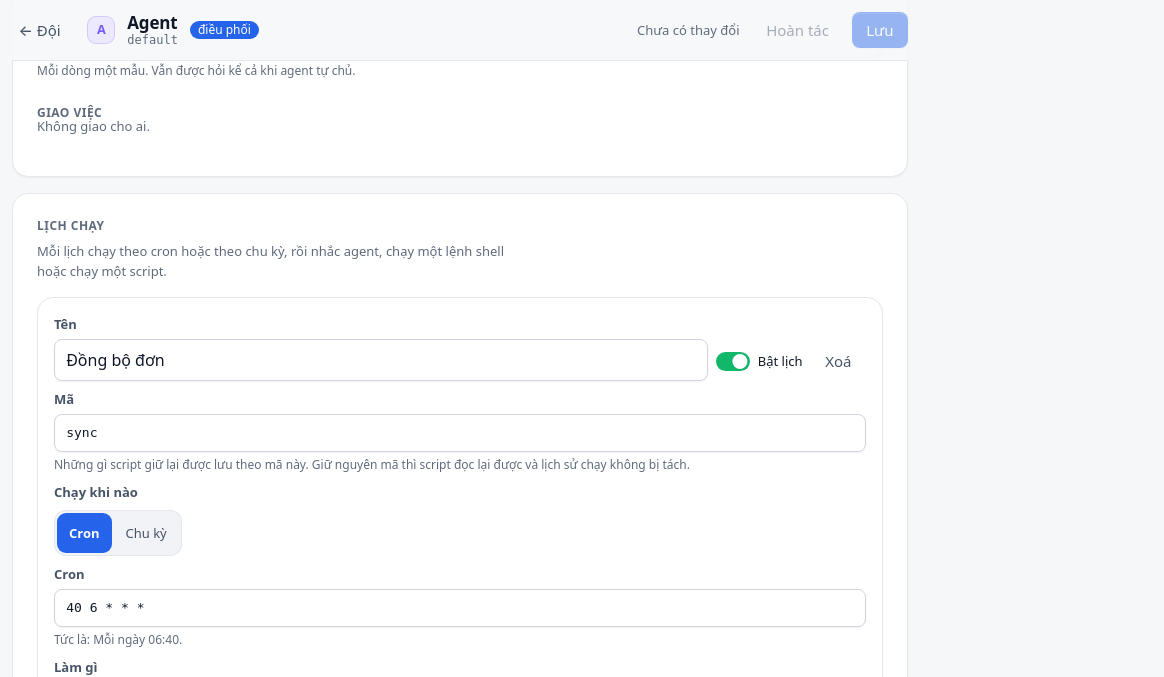
Test: a schedule that runs a script, in the agent editor › keeps its script when its own name, timing and switch are changed
(page scrolled)
Step 1. Type " sáng" into the field labelled "Tên" → (381, 360), box [54,339,708,381]
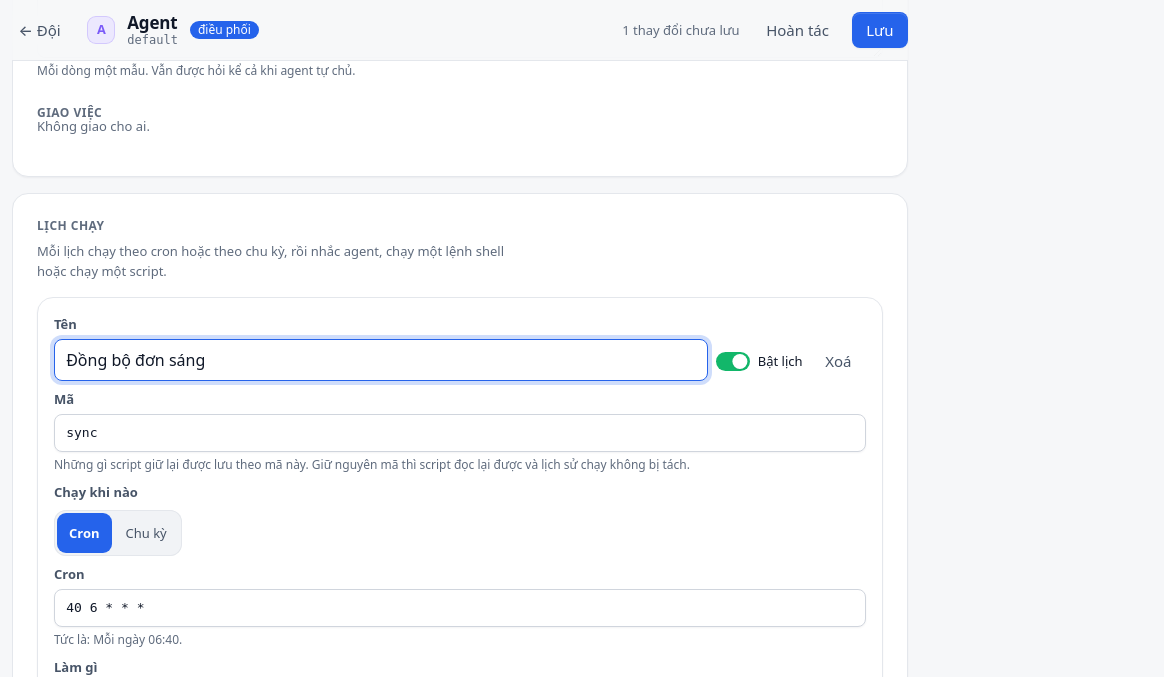
Step 2. Click the button "Chu kỳ" → (146, 533), box [114,513,179,553]
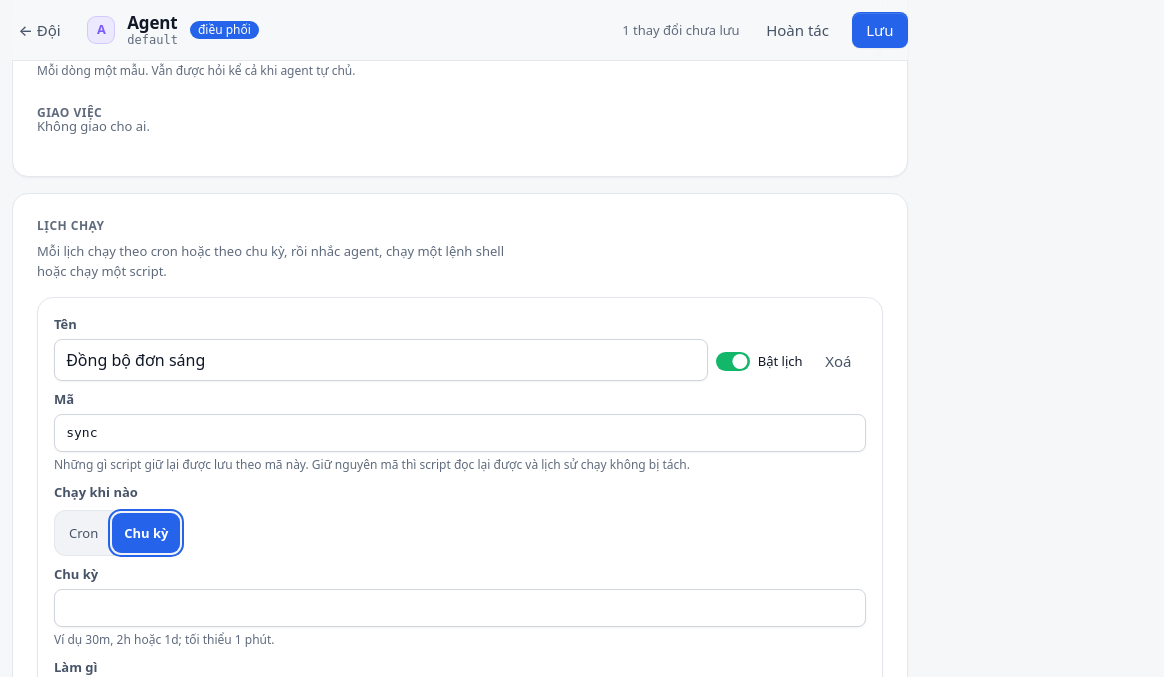
Step 3. Type "6h" into the field labelled "Chu kỳ" → (460, 608), box [54,589,866,627]
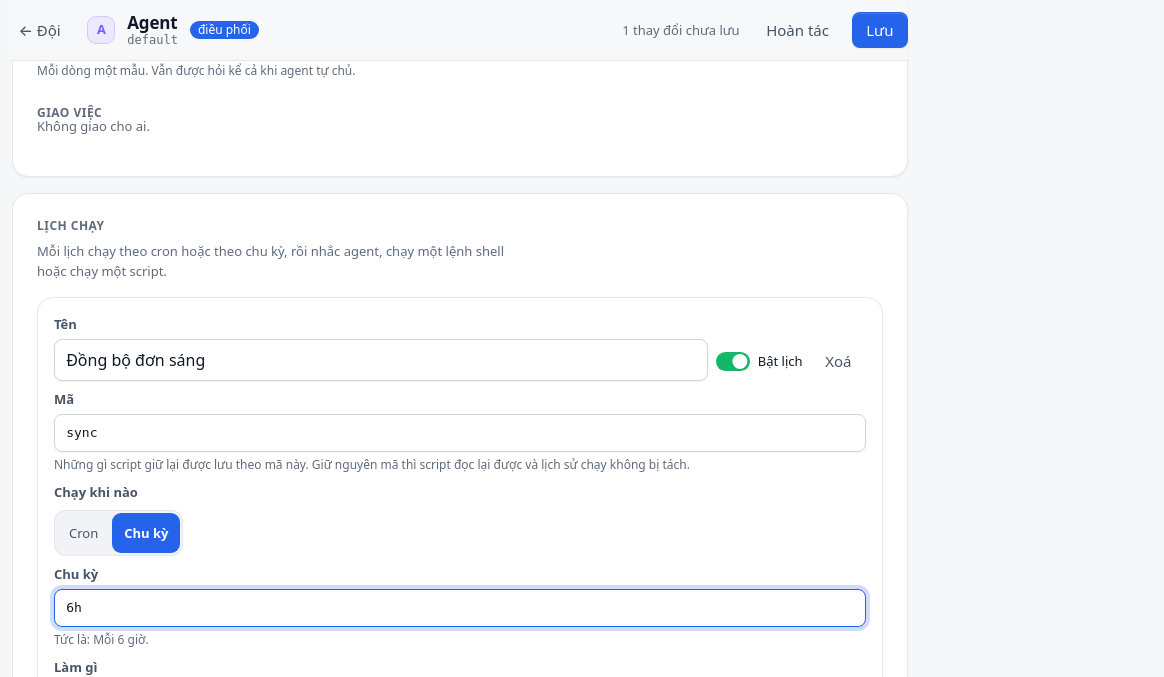
Step 4. Click the checkbox labelled "Bật lịch" → (733, 361), box [716,352,750,371]
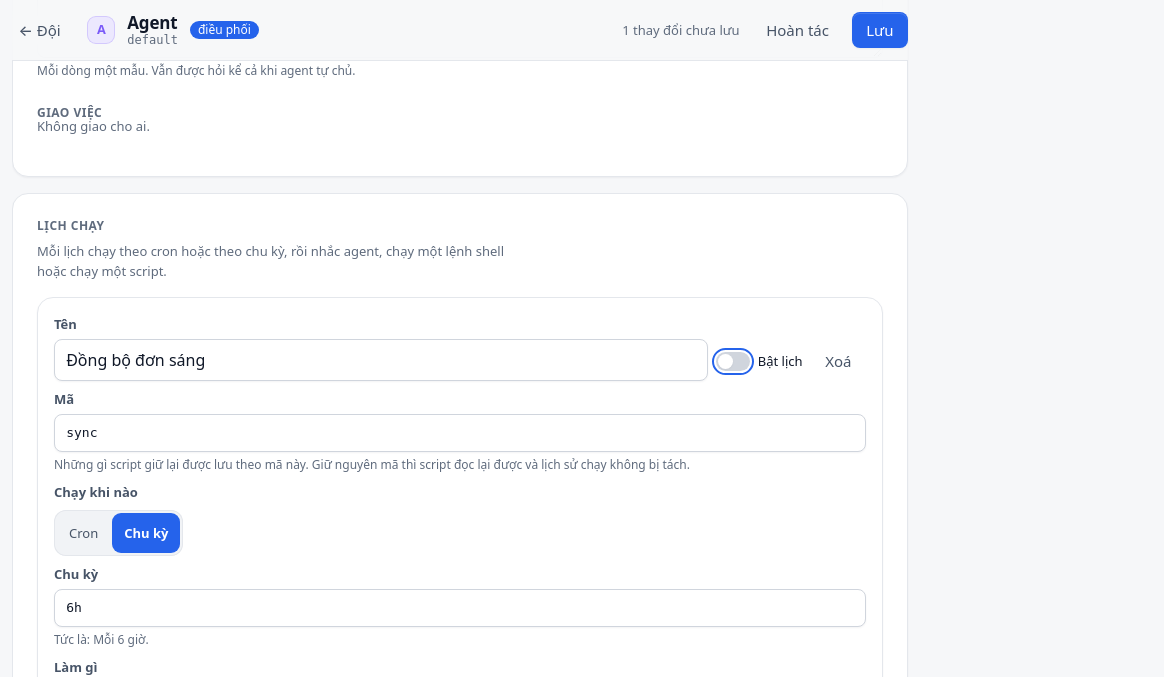
Step 5. Click the button "Lưu" → (880, 30), box [852,12,908,48]
(page scrolled)
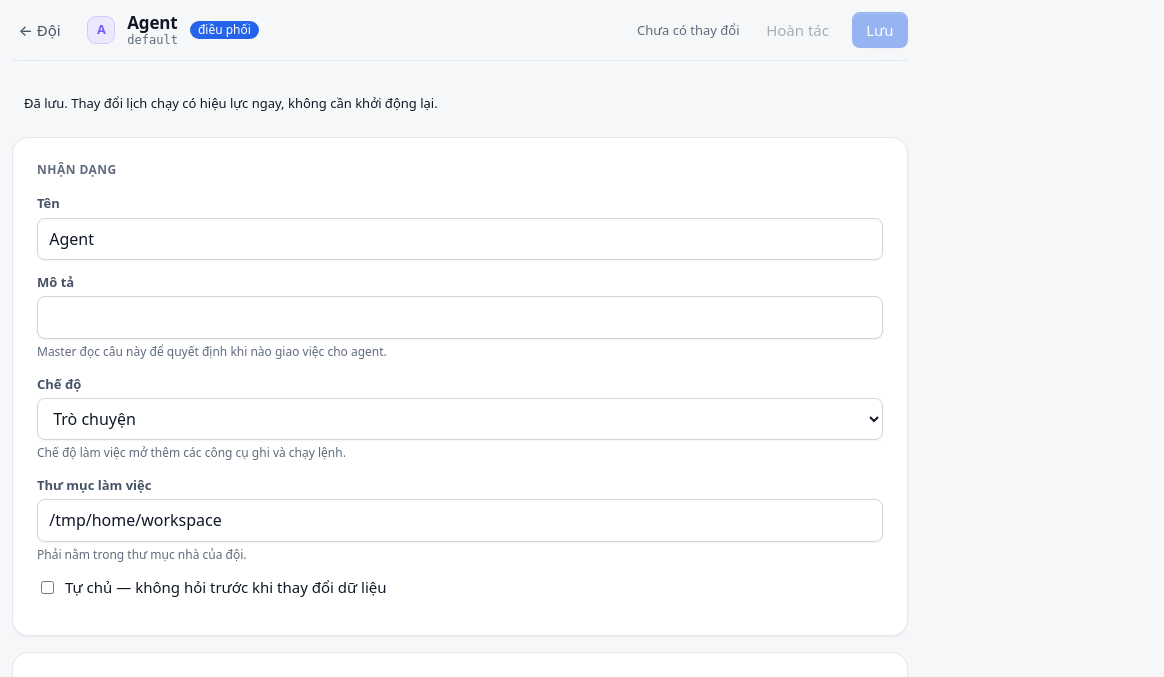
Result: the message "Đã lưu. Thay đổi lịch chạy có hiệu lực ngay, không cần khởi động lại." is shown at [24,94,438,112]
